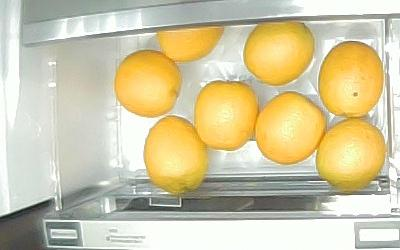orange: (254, 91, 328, 165), (144, 114, 209, 194), (316, 119, 386, 192), (318, 40, 383, 118), (243, 20, 315, 86), (114, 50, 181, 118), (194, 80, 258, 151), (157, 26, 225, 63)
